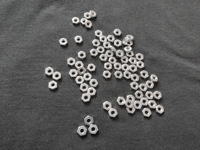nut: (77, 126, 87, 137), (89, 125, 99, 135), (87, 88, 97, 97), (143, 108, 152, 118), (85, 116, 94, 126), (45, 67, 54, 76), (90, 79, 99, 88), (82, 94, 91, 103), (135, 91, 144, 100), (154, 91, 163, 100), (156, 105, 165, 114), (127, 95, 136, 104), (134, 101, 143, 110), (117, 97, 126, 106), (127, 105, 136, 114), (103, 102, 112, 111), (109, 109, 118, 118), (75, 76, 85, 84), (140, 98, 150, 106), (59, 38, 68, 46), (53, 72, 61, 81), (49, 81, 57, 90), (78, 51, 86, 60), (90, 49, 99, 57), (78, 67, 87, 75), (84, 73, 92, 82), (80, 84, 89, 92), (104, 63, 113, 71), (103, 71, 112, 79), (137, 61, 145, 70), (140, 71, 149, 79), (150, 75, 159, 83), (130, 82, 139, 90), (146, 81, 155, 89), (125, 100, 134, 108), (95, 30, 103, 38), (107, 35, 115, 43), (68, 58, 76, 66), (97, 46, 105, 54), (116, 50, 124, 58), (88, 64, 96, 72), (100, 54, 108, 62), (136, 53, 144, 61), (121, 56, 129, 64), (114, 63, 122, 71), (122, 64, 130, 72), (130, 65, 138, 73), (115, 71, 123, 79), (124, 72, 132, 80), (132, 74, 140, 82), (140, 84, 148, 92), (146, 92, 154, 100), (149, 101, 157, 109), (124, 46, 133, 53), (75, 62, 84, 69), (69, 70, 78, 77), (90, 10, 97, 18), (84, 12, 92, 19), (72, 17, 80, 24), (85, 20, 92, 28), (75, 36, 83, 43), (100, 36, 108, 43), (114, 29, 122, 36), (93, 40, 101, 47), (103, 42, 111, 49), (115, 40, 122, 48), (126, 51, 134, 58), (109, 57, 117, 64), (130, 57, 137, 65), (81, 18, 88, 25), (110, 46, 117, 53), (127, 35, 134, 42), (106, 51, 114, 57), (126, 41, 133, 47), (123, 37, 128, 45)
